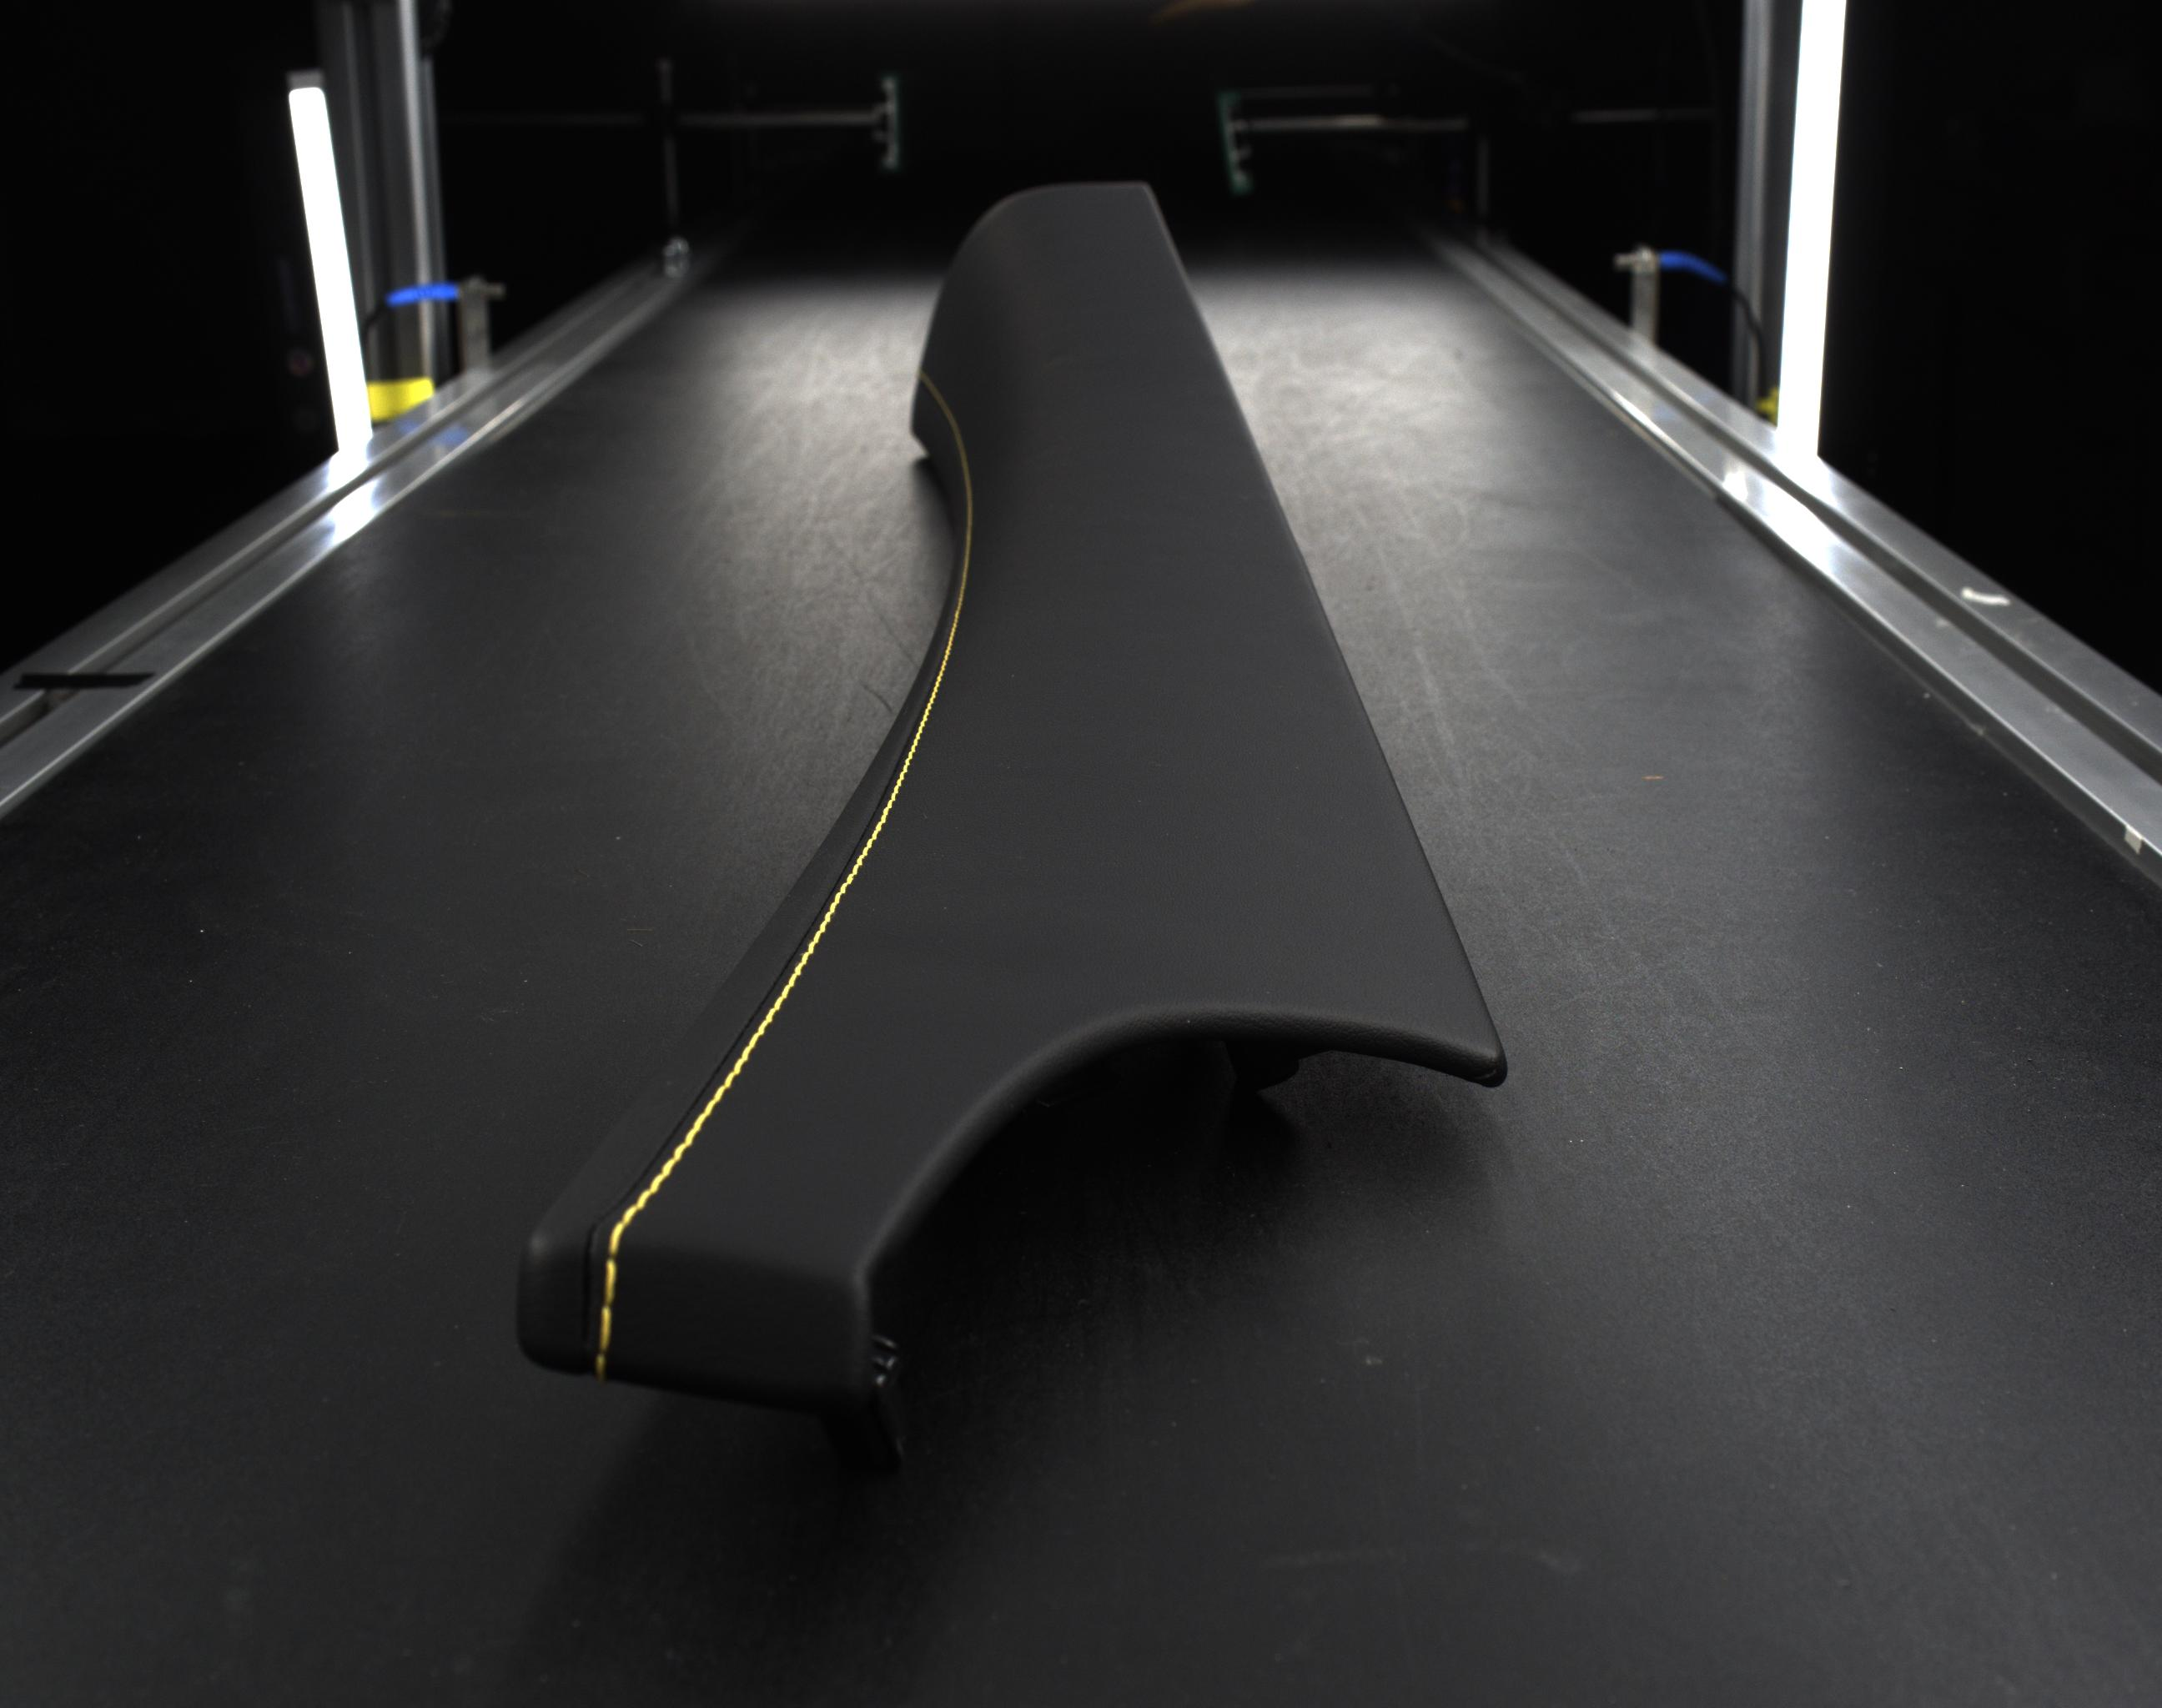vline: (600, 1260, 616, 1303), (597, 1306, 611, 1352), (591, 1357, 604, 1380)
